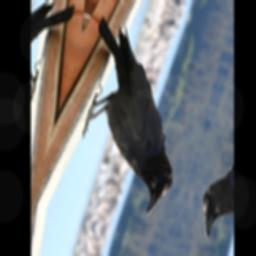Crow: (52, 14, 211, 221)
